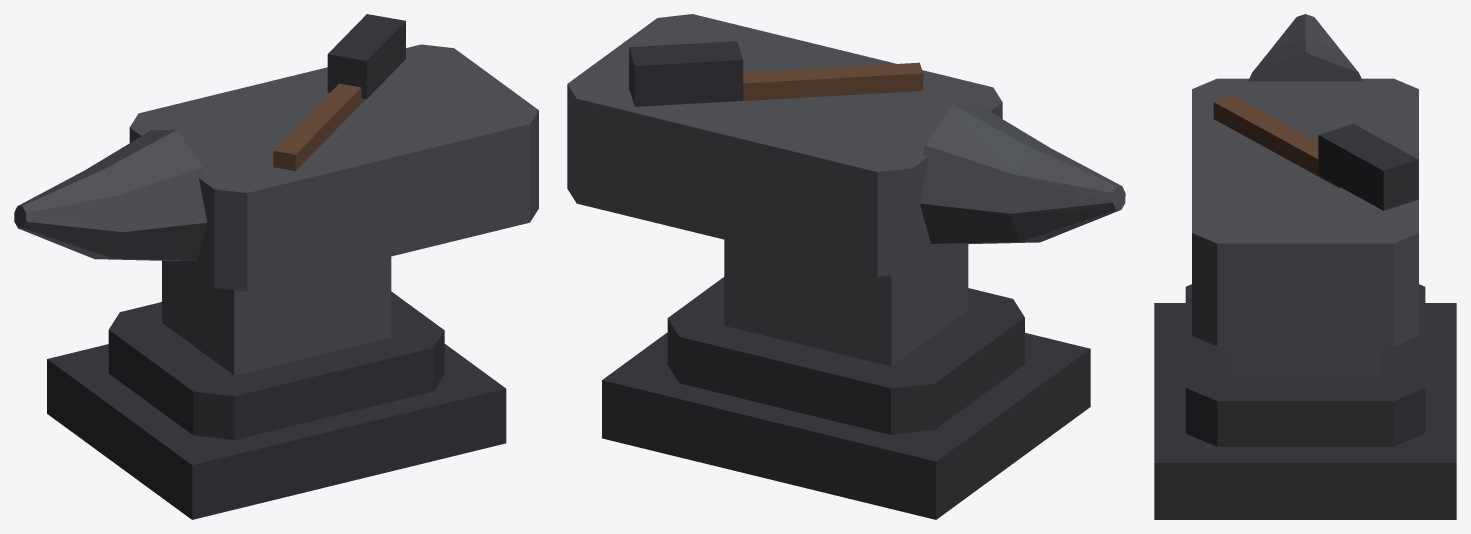
Rendered from vfem2_smithing_anvil.obj.
3 renders of one model, left to right at view 1: azimuth 30°, elevation 25°; view 2: azimuth 150°, elevation 25°; view 3: azimuth 270°, elevation 25°, orthographic. The views are drawn at different scales.
Parts seen in each view (by area): view 1: vfem2_smithing_anvil; view 2: vfem2_smithing_anvil; view 3: vfem2_smithing_anvil.
Boxes of the visible parts, x1=… form: vfem2_smithing_anvil: x1=14, y1=14, x2=538, y2=519; vfem2_smithing_anvil: x1=567, y1=14, x2=1125, y2=519; vfem2_smithing_anvil: x1=1154, y1=14, x2=1456, y2=519.
Bounding box in the file's own units: 0.9139 × 0.62 × 0.48.
